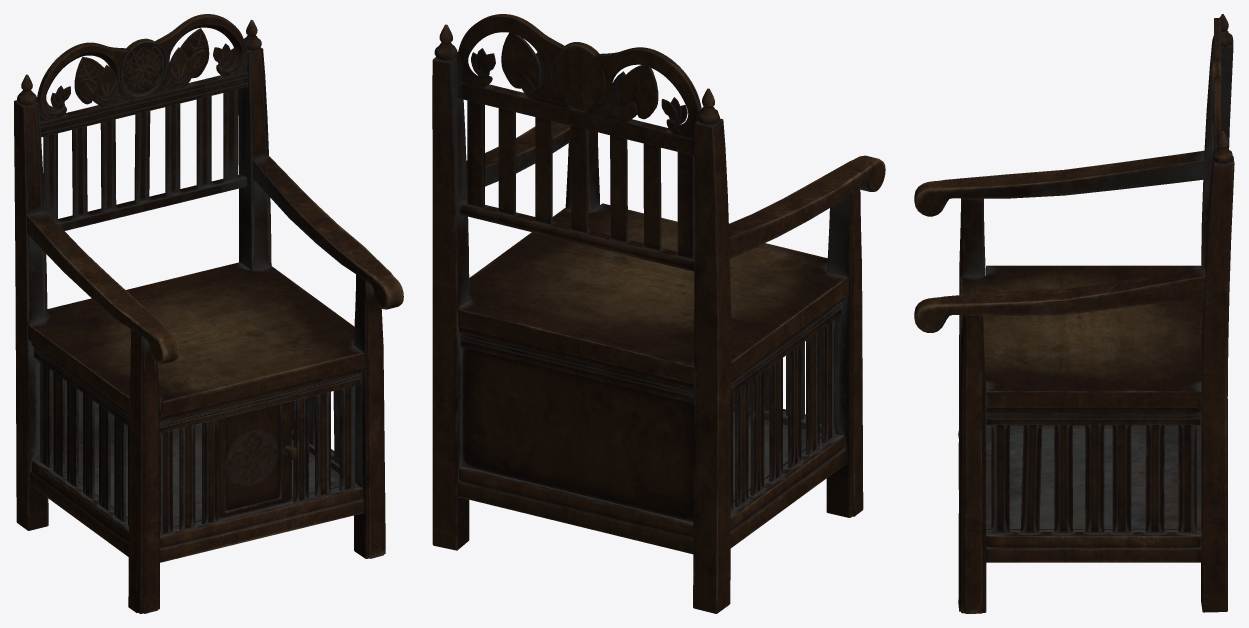
File: chair1.obj
3 renders of one model, left to right at view 1: azimuth 30°, elevation 25°; view 2: azimuth 150°, elevation 25°; view 3: azimuth 270°, elevation 25°, orthographic. The views are drawn at different scales.
Parts seen in each view (by area): view 1: gallinera_chair; view 2: gallinera_chair; view 3: gallinera_chair.
Boxes of the visible parts, <box> form: gallinera_chair: <box>14,14,403,613</box>; gallinera_chair: <box>432,14,885,613</box>; gallinera_chair: <box>914,14,1234,613</box>.
Bounding box in the file's own units: 0.5808 × 1.03 × 0.6039.
1 material, 1 textured.
